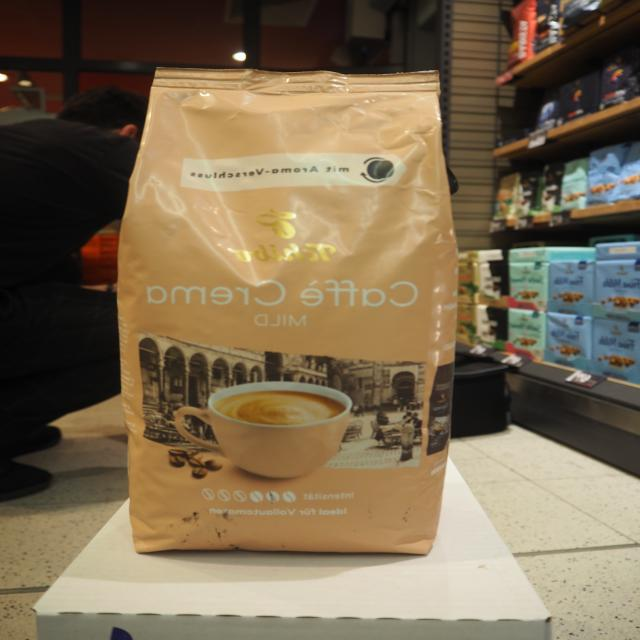CC Mild: (111, 61, 463, 558)
